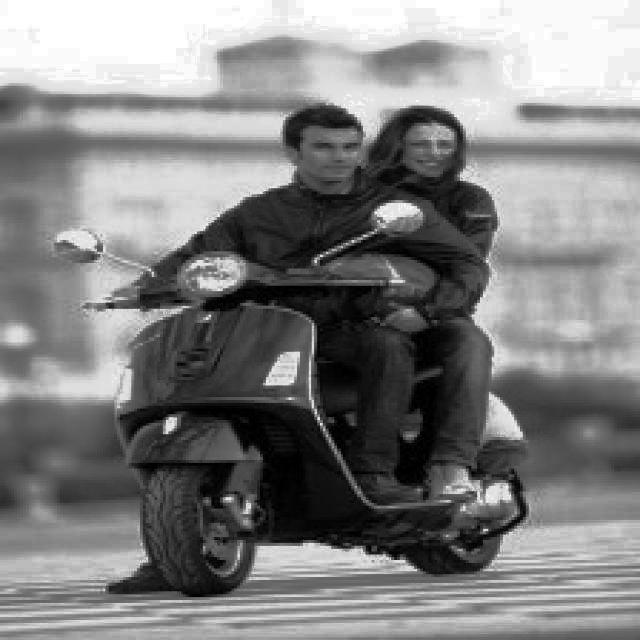Bike: (69, 280, 543, 606)
